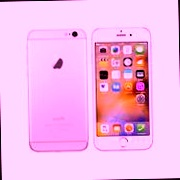iphone: (84, 33, 155, 161), (21, 27, 90, 157)
